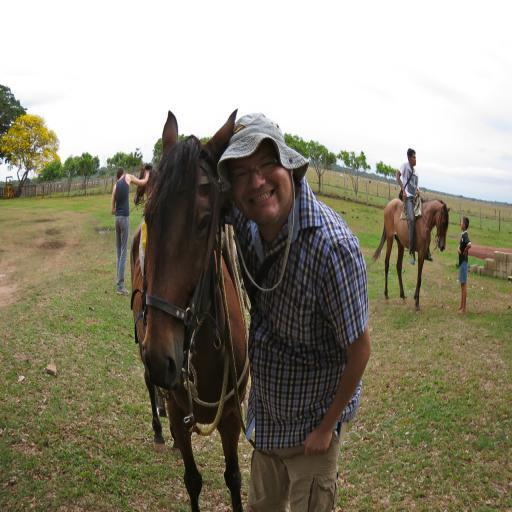horse: (128, 106, 262, 512), (370, 196, 452, 314), (131, 162, 156, 208)
